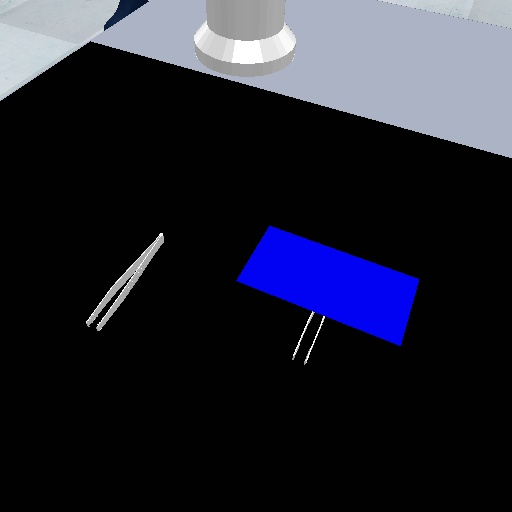pinza: (81, 224, 167, 334), (289, 307, 327, 367)
